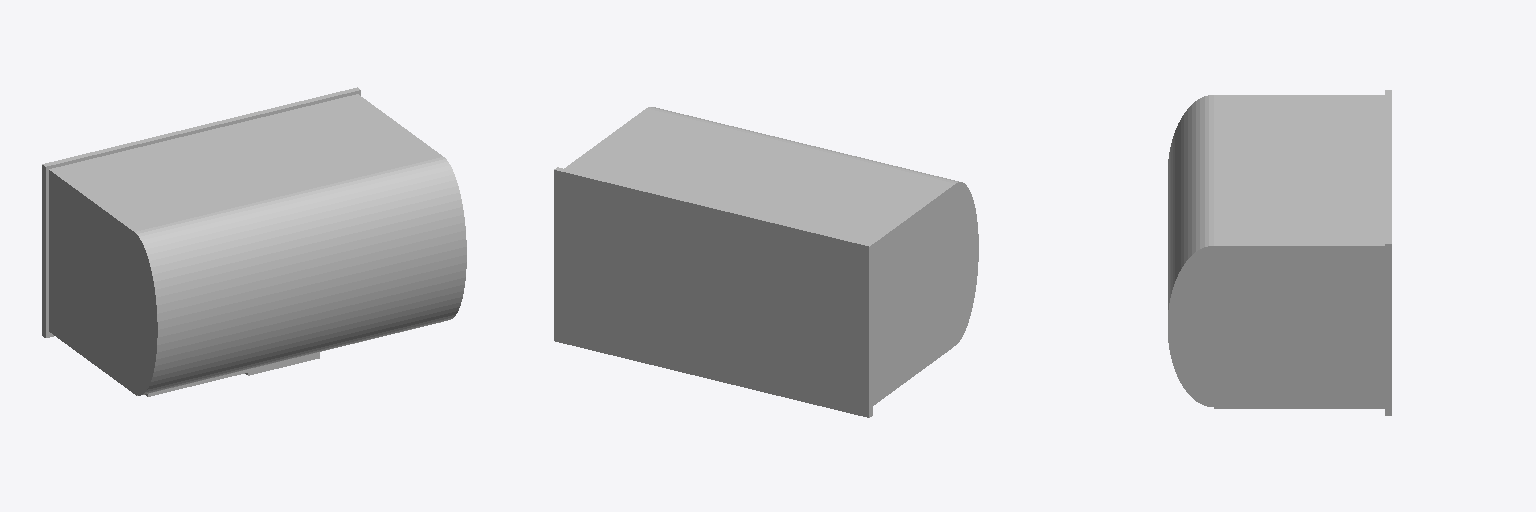
File: ClosedChest.obj
3 renders of one model, left to right at view 1: azimuth 30°, elevation 25°; view 2: azimuth 150°, elevation 25°; view 3: azimuth 270°, elevation 25°, orthographic.
Visible parts, largest first — view 1: obj_0; view 2: obj_0; view 3: obj_0.
Boxes of the visible parts, box(x1,y1,x2,y2) form: obj_0: box(42, 87, 466, 396); obj_0: box(554, 107, 978, 417); obj_0: box(1168, 90, 1391, 415).
Bounding box in the file's own units: 102 × 55 × 63.